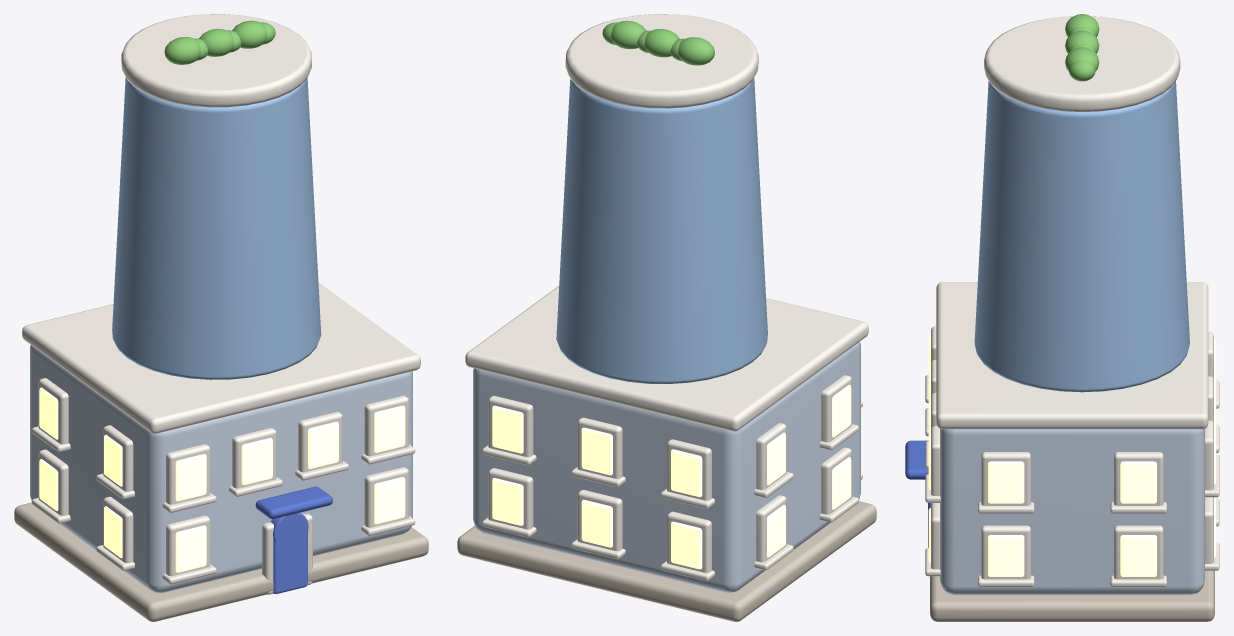
The picture shows the model from 3 angles, left to right: view 1: azimuth 30°, elevation 25°; view 2: azimuth 150°, elevation 25°; view 3: azimuth 270°, elevation 25°; orthographic projection. The views are drawn at different scales.
Parts seen in each view (by area): view 1: Cube; view 2: Cube; view 3: Cube.
Part boxes in pixels (x1,y1,x2,y2): Cube: [14, 14, 428, 621]; Cube: [457, 14, 876, 621]; Cube: [905, 14, 1219, 621].
Bounding box in the file's own units: 0.699 × 1.17 × 0.6395.
